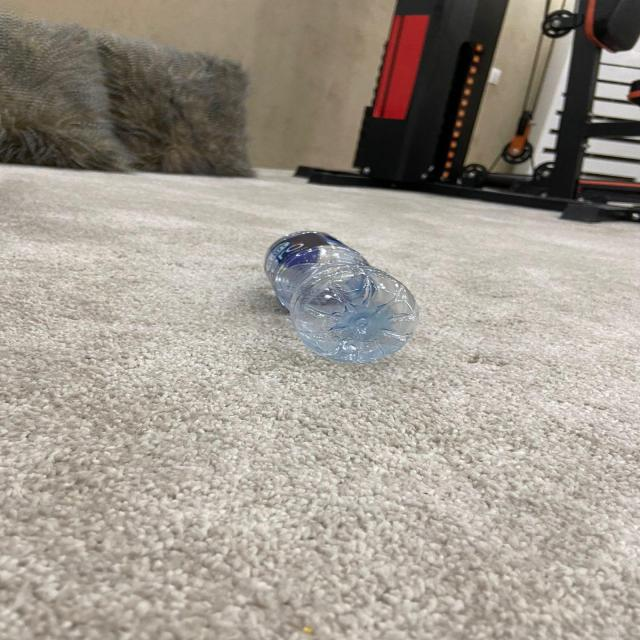bottle: (261, 226, 424, 370)
